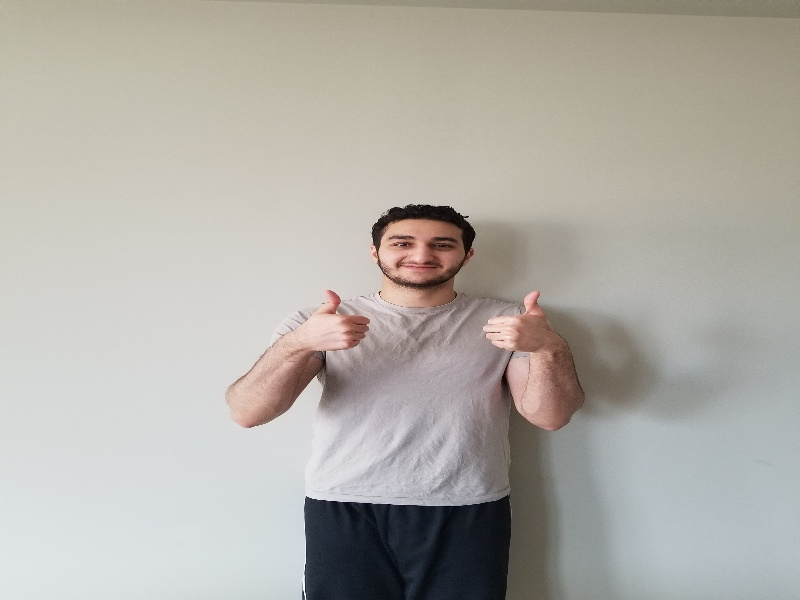smile: (367, 204, 476, 288)
thumbup: (483, 289, 561, 356), (300, 289, 372, 356)
